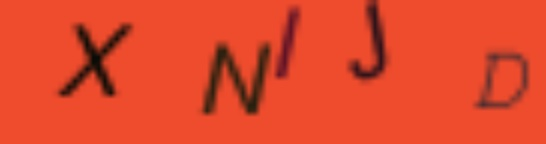D: (475, 51, 529, 113)
I: (272, 1, 307, 80)
J: (345, 1, 392, 81)
N: (195, 37, 274, 118)
X: (56, 18, 139, 101)
